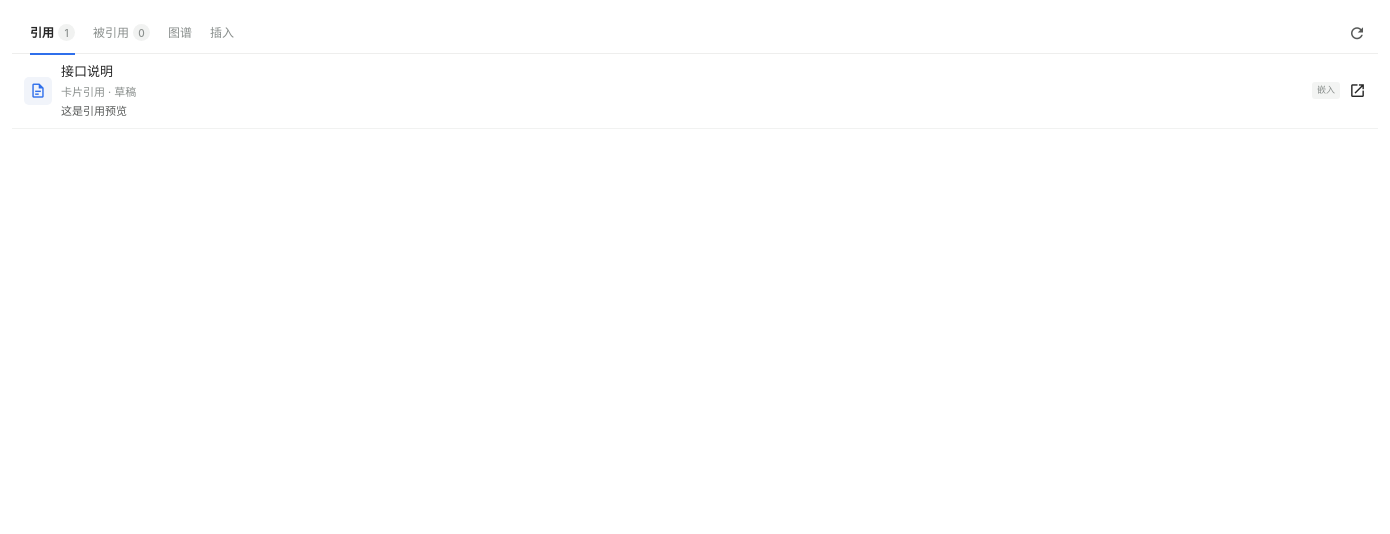
it: ReferencePanel › loads the knowledge graph only when its tab is opened
The image size is (1390, 534).
Step 1. Click the tab "图谱" → (180, 32), box [160,12,200,54]
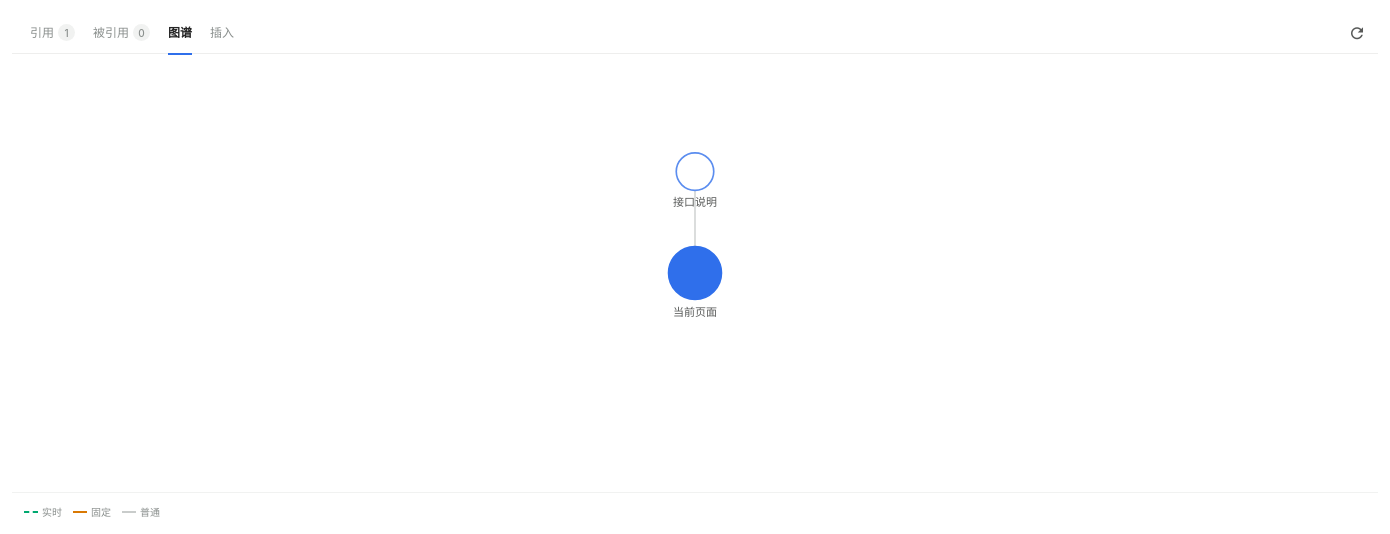
Result: the picture named "页面知识图谱" is shown
